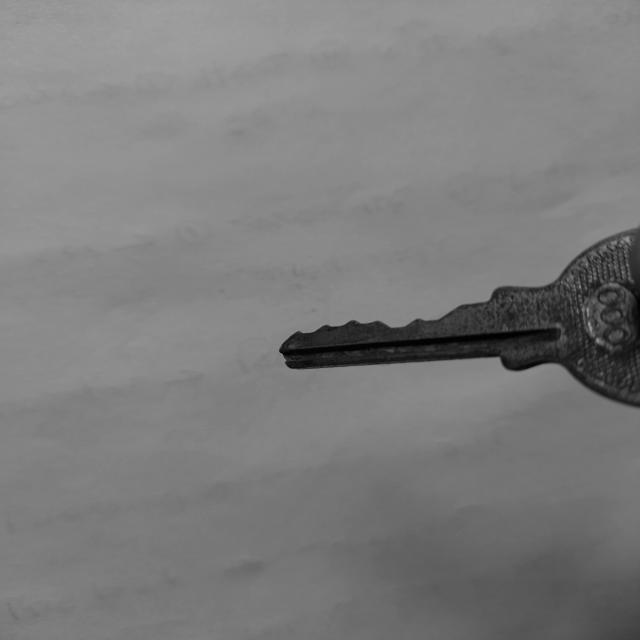KEY: (280, 230, 640, 406)
